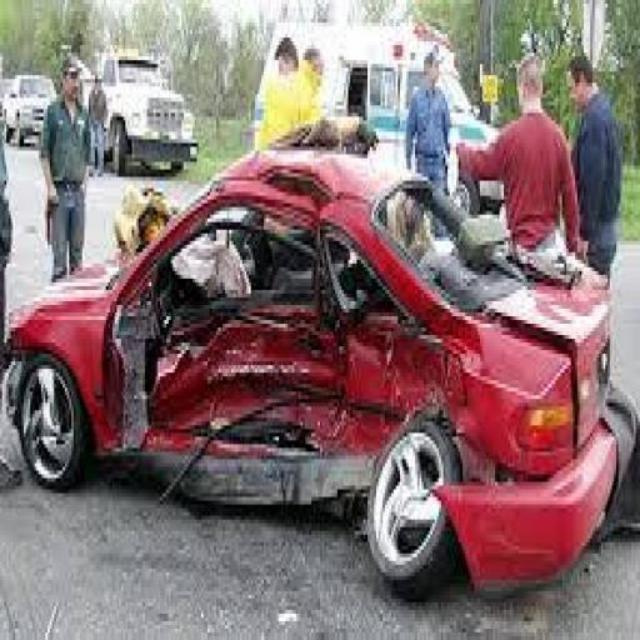crash: (4, 145, 602, 577)
